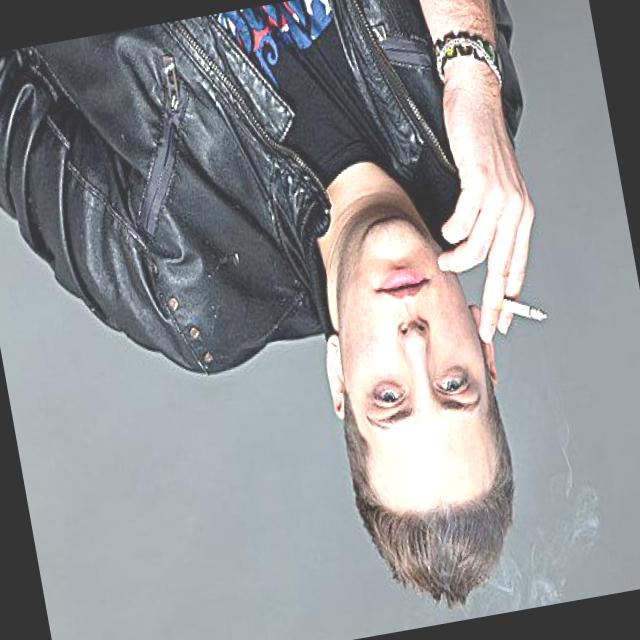smoke: (512, 286, 550, 344)
